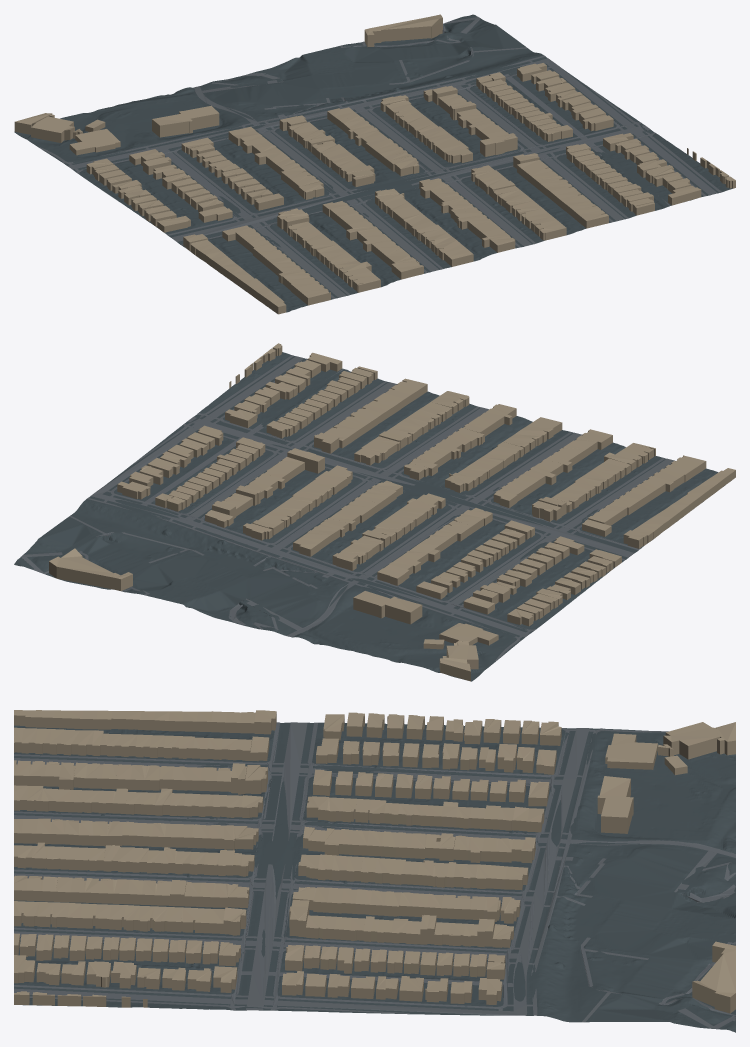
Rendered from epsg26910-1420-10875.lod0.glb.
The picture shows the model from 3 angles, top to bottom: view 1: azimuth 30°, elevation 25°; view 2: azimuth 150°, elevation 25°; view 3: azimuth 270°, elevation 25°; orthographic projection. The views are drawn at different scales.
Visible parts, largest first — view 1: epsg26910-1420-10875-lod0; view 2: epsg26910-1420-10875-lod0; view 3: epsg26910-1420-10875-lod0.
Part boxes in pixels (box(x1,y1,x2,y2)): epsg26910-1420-10875-lod0: box(14, 14, 735, 314); epsg26910-1420-10875-lod0: box(14, 343, 735, 681); epsg26910-1420-10875-lod0: box(14, 710, 735, 1032).
Bounding box in the file's own units: 384 × 27.48 × 384.
